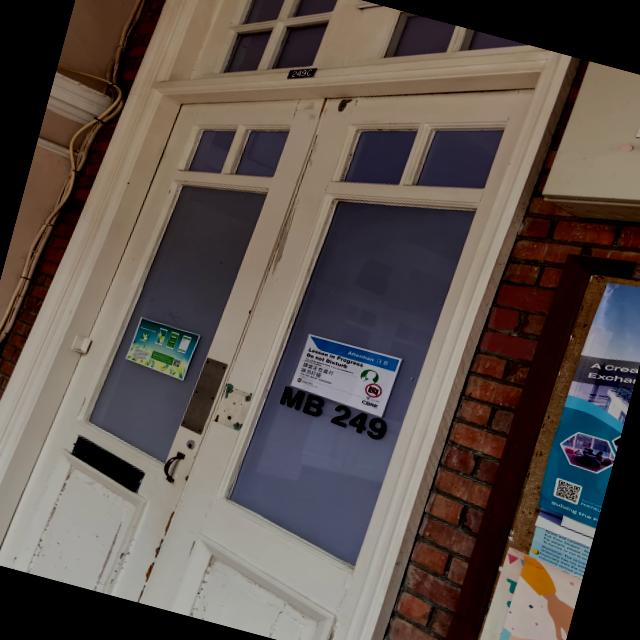room249c: (282, 56, 318, 86)
room249cWindow: (268, 380, 396, 450)
